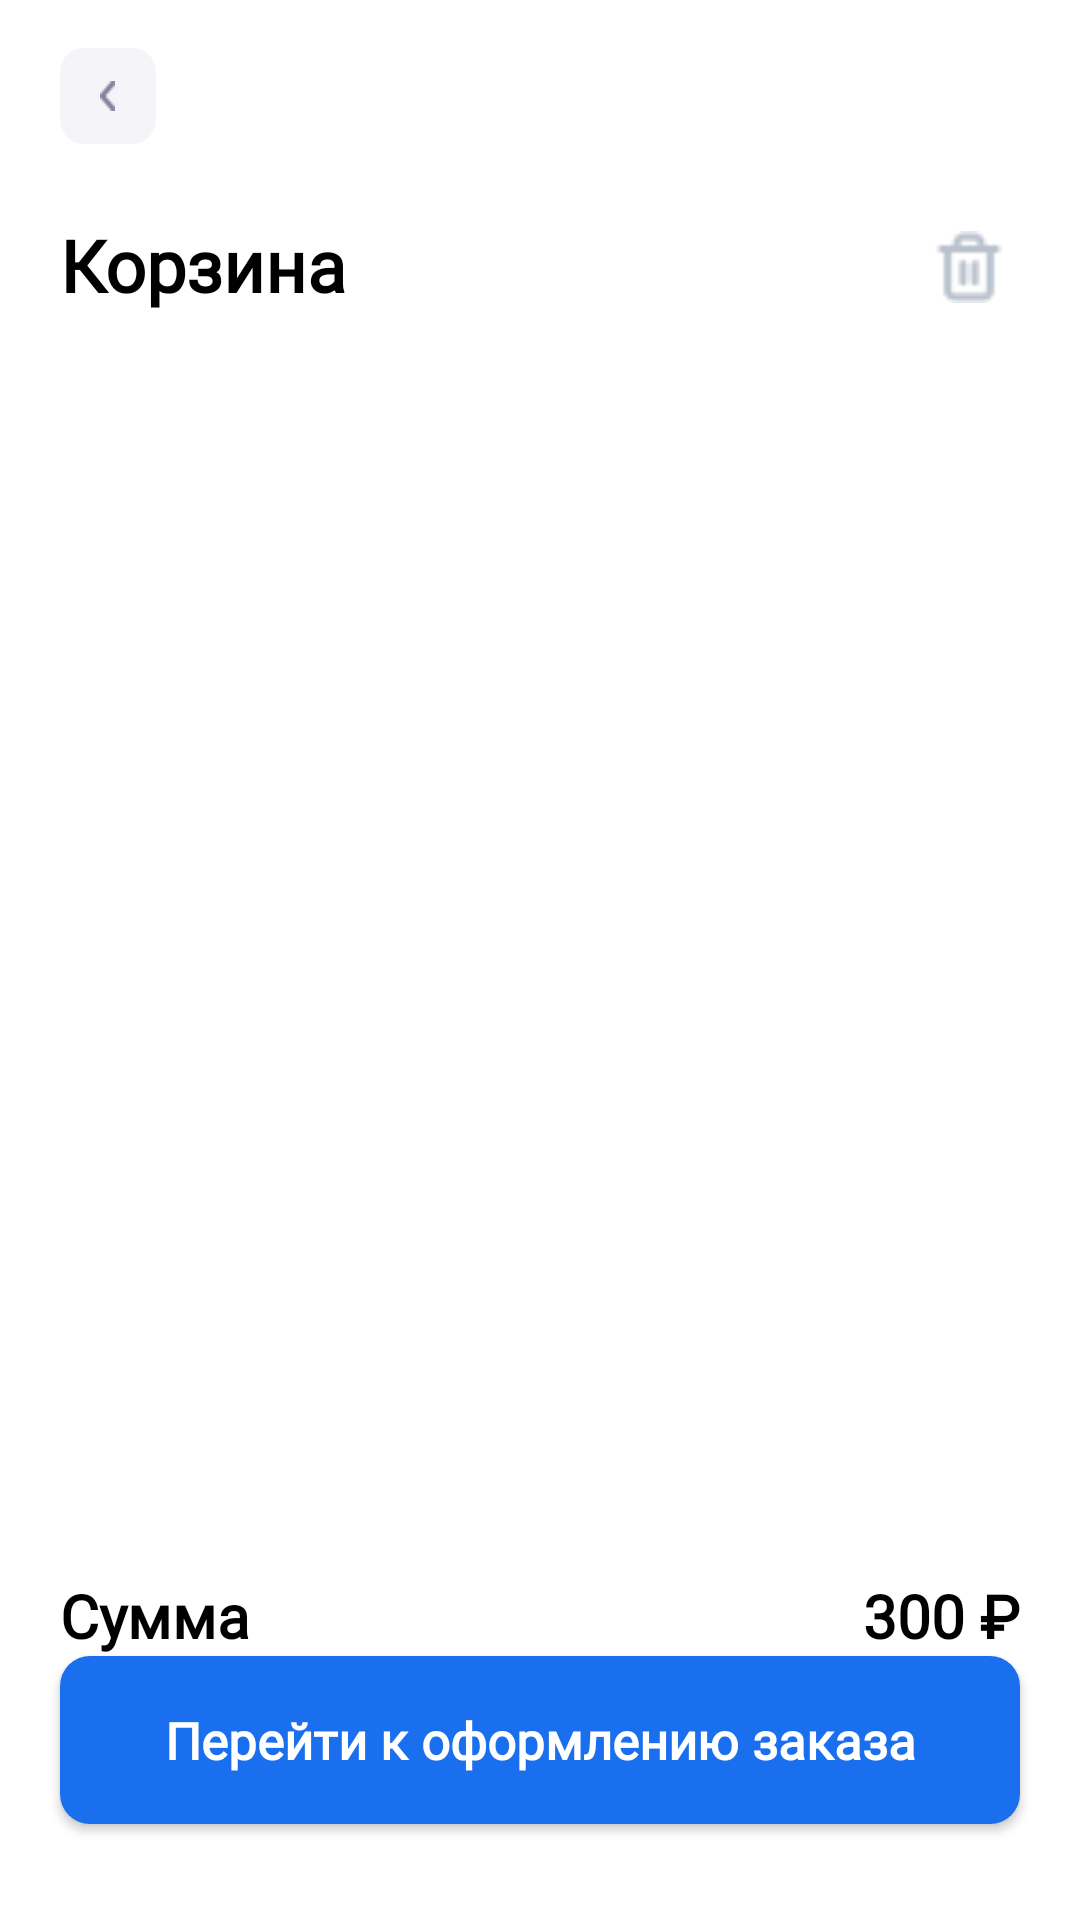

Named icons in this screenshot (1080px×1920px) and their centers, (x,y):
trash: (969,267)
